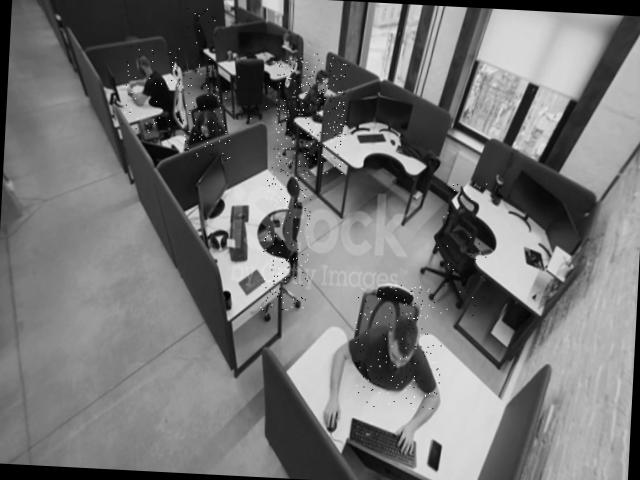empty chair: (425, 178, 490, 322), (260, 170, 314, 314), (225, 46, 275, 128), (184, 8, 219, 82)
occupiedchair: (352, 282, 446, 411), (272, 52, 350, 176), (121, 43, 192, 135), (182, 84, 234, 161)
